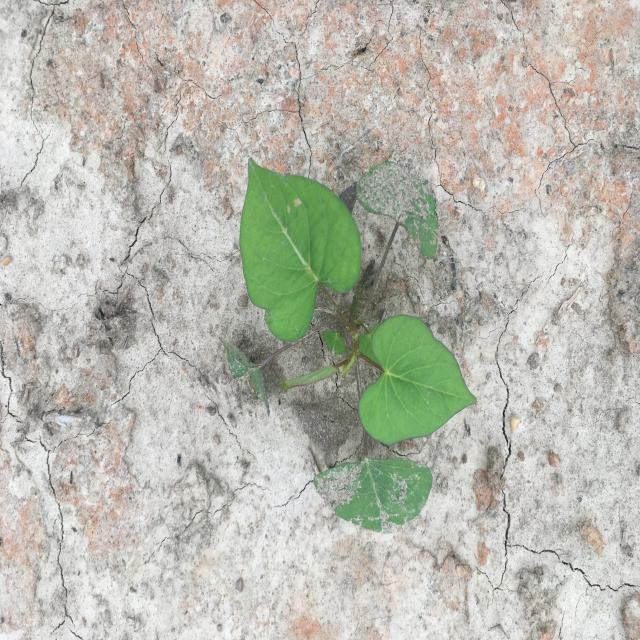MorningGlory: (219, 155, 478, 534)
